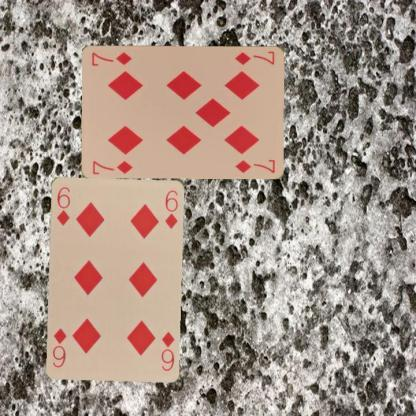6d: (158, 329, 176, 372), (54, 184, 71, 226)
7d: (232, 48, 276, 66), (90, 158, 134, 175)
